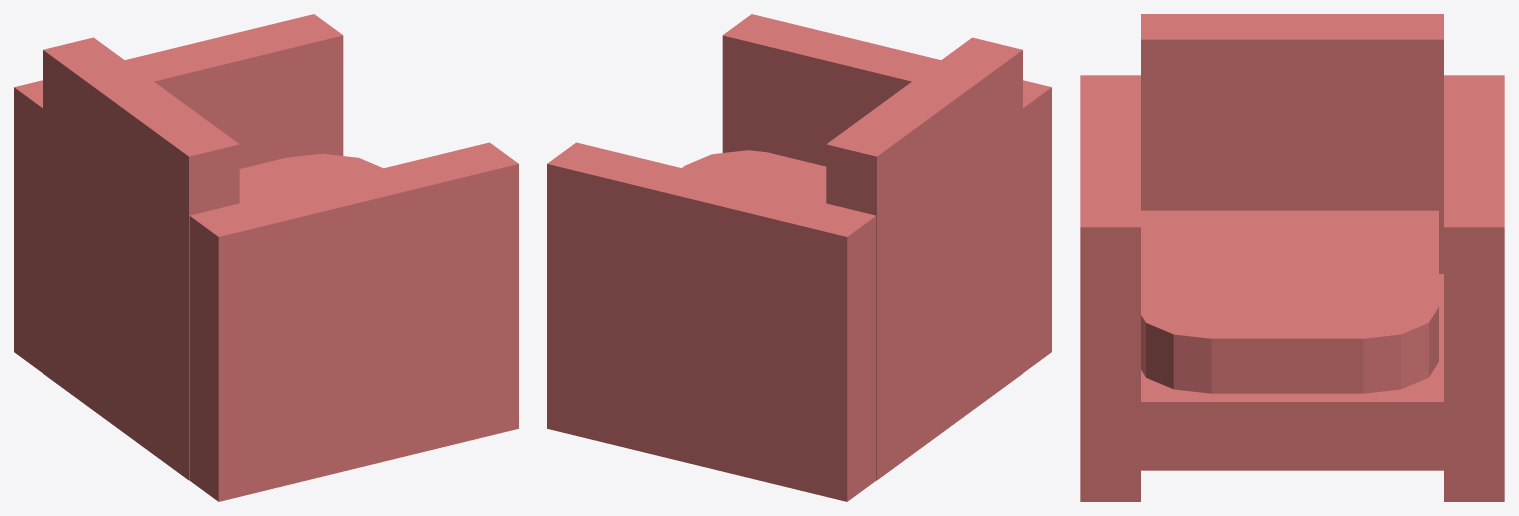
Rendered from small_couch.fbx.
3 renders of one model, left to right at view 1: azimuth 30°, elevation 25°; view 2: azimuth 150°, elevation 25°; view 3: azimuth 270°, elevation 25°, orthographic. The views are drawn at different scales.
Visible parts, largest first — view 1: small_couch; view 2: small_couch; view 3: small_couch.
Boxes of the visible parts, left/top/right/bottom form: small_couch: left=14, top=14, right=518, bottom=501; small_couch: left=547, top=14, right=1051, bottom=501; small_couch: left=1080, top=14, right=1504, bottom=501.
Bounding box in the file's own units: 0.012 × 0.0122 × 0.014.
